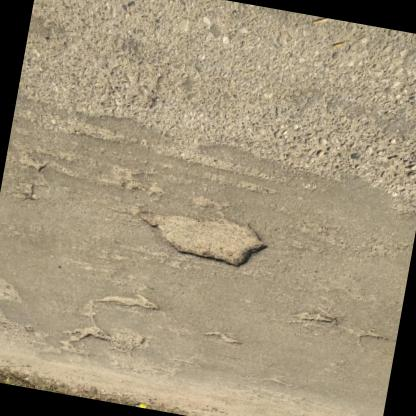pothole: (132, 204, 272, 276), (61, 320, 114, 352), (90, 292, 162, 314)
